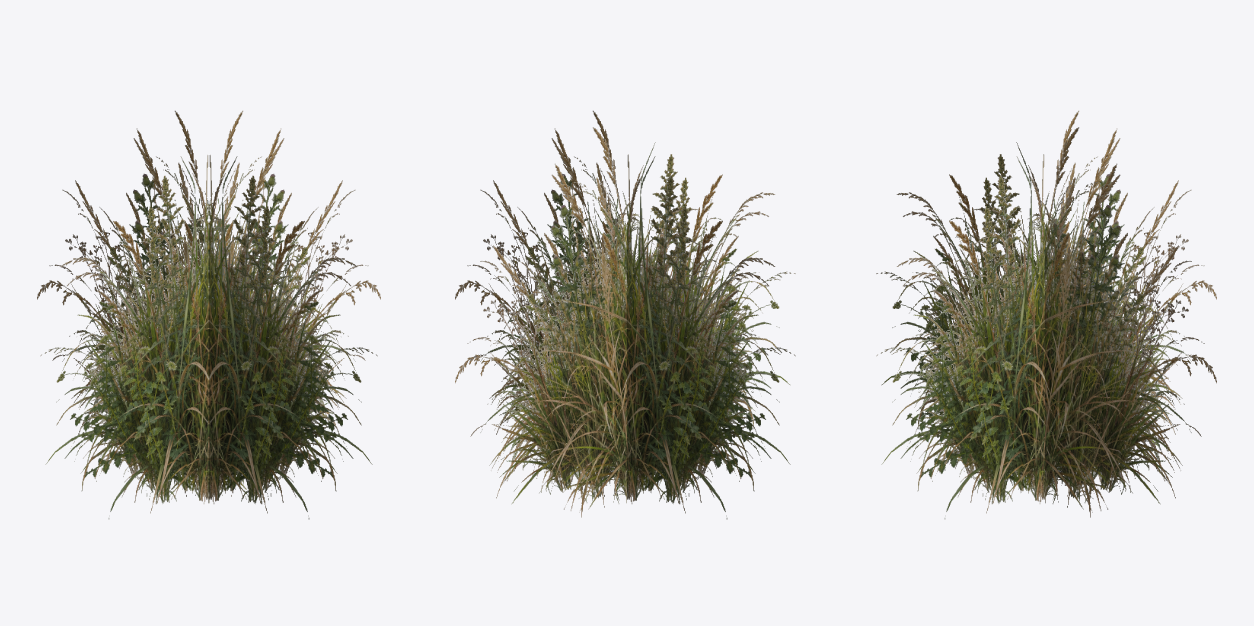
Rendered from Grass.fbx.
The picture shows the model from 3 angles, left to right: view 1: azimuth 30°, elevation 25°; view 2: azimuth 150°, elevation 25°; view 3: azimuth 270°, elevation 25°; orthographic projection.
Visible parts, largest first — view 1: Grass; view 2: Grass; view 3: Grass.
Boxes of the visible parts, x1,y1,x2,y2 form: Grass: (37,110,380,519); Grass: (455,110,795,519); Grass: (876,110,1216,519).
Bounding box in the file's own units: 100 × 100 × 86.6.
1 material, 1 textured.
